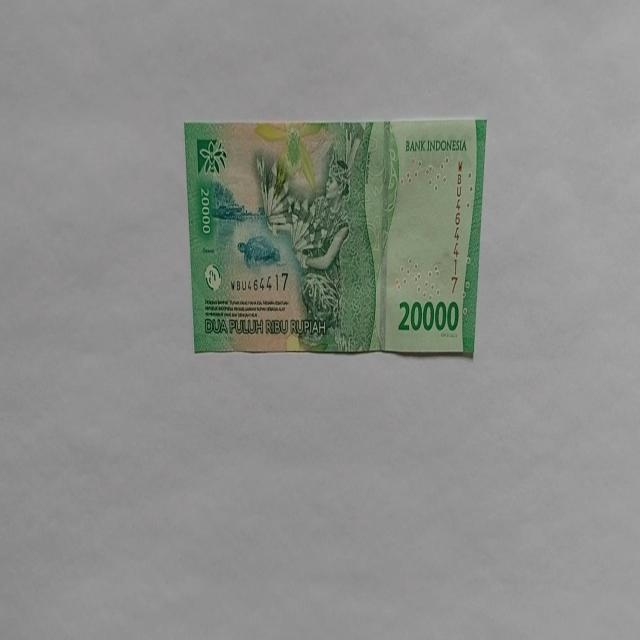dua puluh ribu rupiah: (184, 116, 486, 358), (254, 121, 398, 352)
